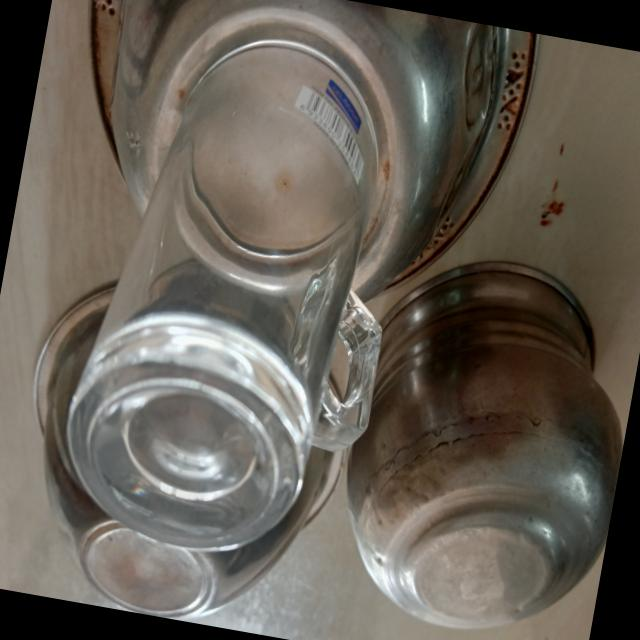glass-VX4N: (49, 4, 434, 574)
